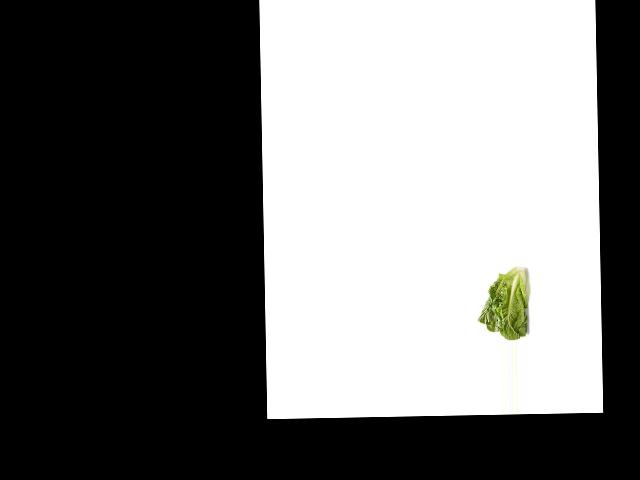lettuce: (476, 263, 539, 341)
